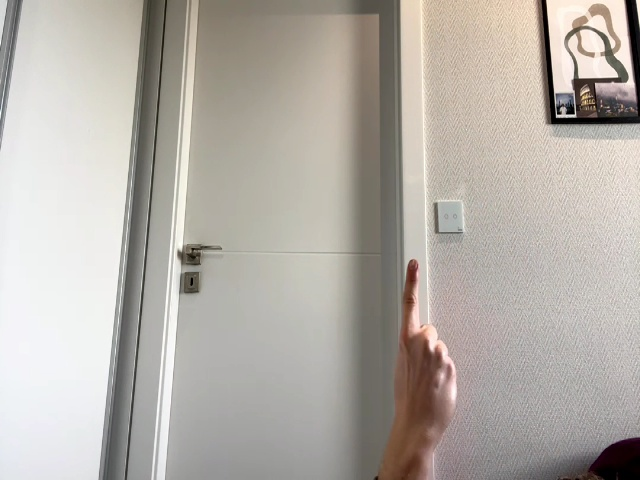D: (394, 259, 457, 434)
